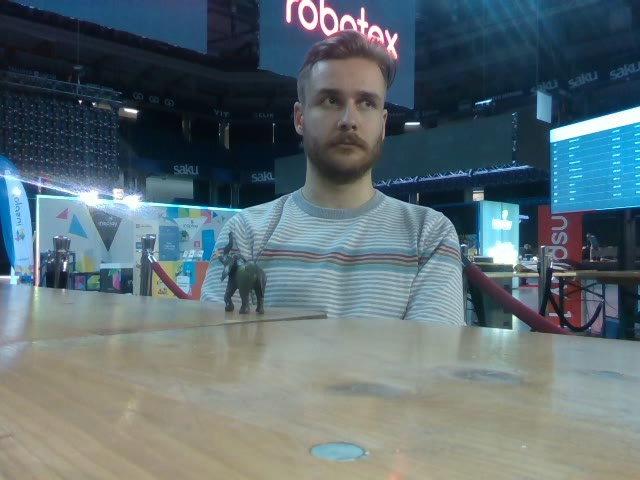toy: (217, 231, 268, 313)
